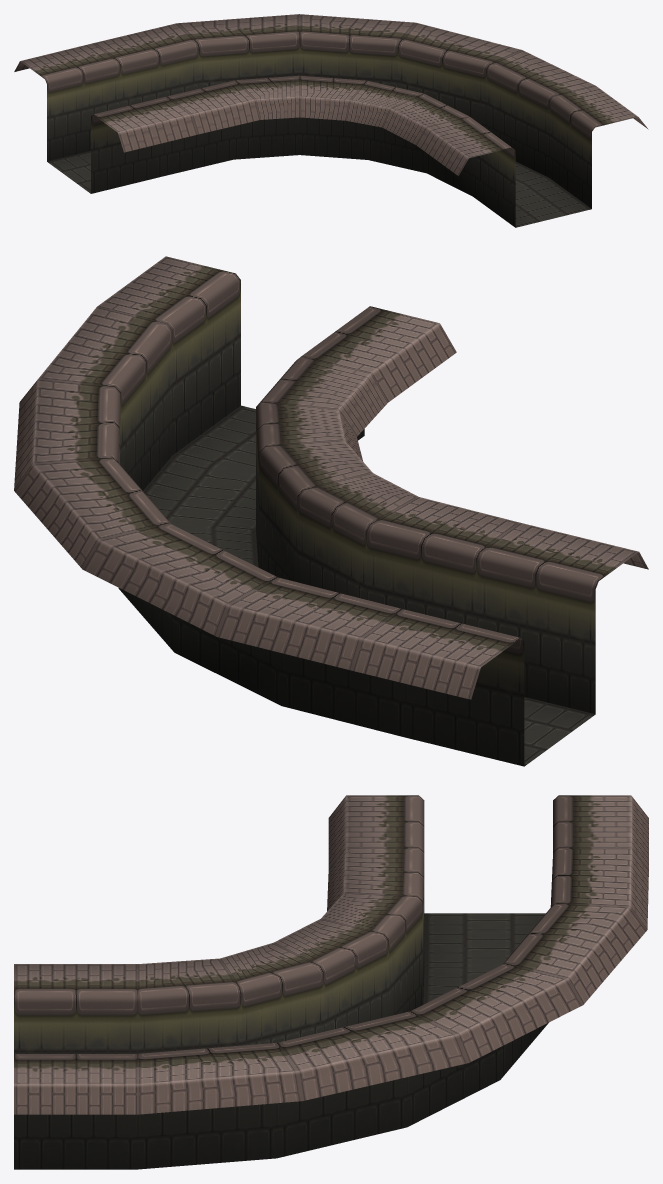
The model's file is Canal_Brick_01.FBX.
The picture shows the model from 3 angles, top to bottom: view 1: azimuth 30°, elevation 25°; view 2: azimuth 150°, elevation 25°; view 3: azimuth 270°, elevation 25°; orthographic projection. The views are drawn at different scales.
Parts seen in each view (by area): view 1: Canal_Brick_01; view 2: Canal_Brick_01; view 3: Canal_Brick_01.
Boxes of the visible parts, x1,y1,x2,y2 form: Canal_Brick_01: (14, 14, 648, 227); Canal_Brick_01: (14, 256, 648, 766); Canal_Brick_01: (14, 795, 648, 1169).
Size of the model in its own units: 464 by 85.92 by 419.
